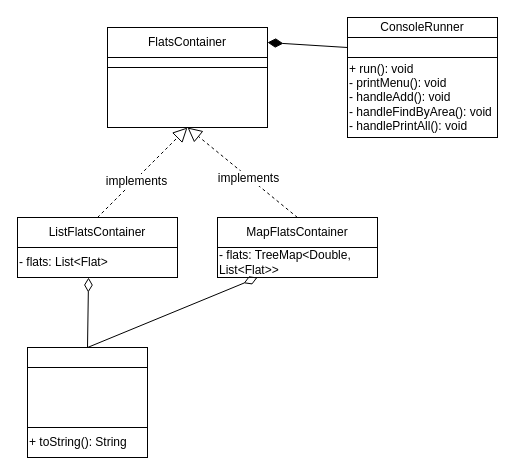
Some shapes in this 515 by 475 pixel diagram are drawn without their labels. Each missing label, with the centre of its shape:
+ findByArea(lower: double, upper: double): List<Flat> + add(flat: Flat): the point at 187,97
- area: double - rooms: int - floor: int - district: String: the point at 87,397
- container: FlatsContainer: the point at 422,47
Flat: the point at 87,357
